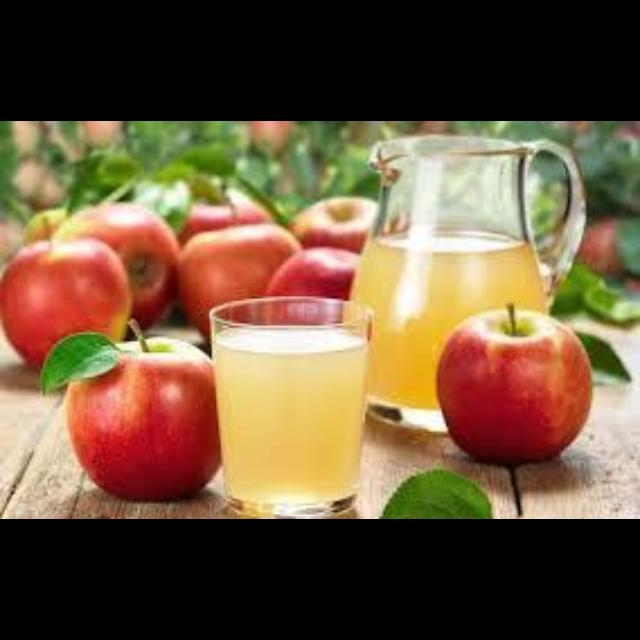apple: (68, 337, 219, 500), (437, 304, 590, 464), (0, 238, 131, 369), (54, 202, 178, 326), (178, 222, 300, 337), (288, 195, 374, 252), (266, 247, 358, 299)
